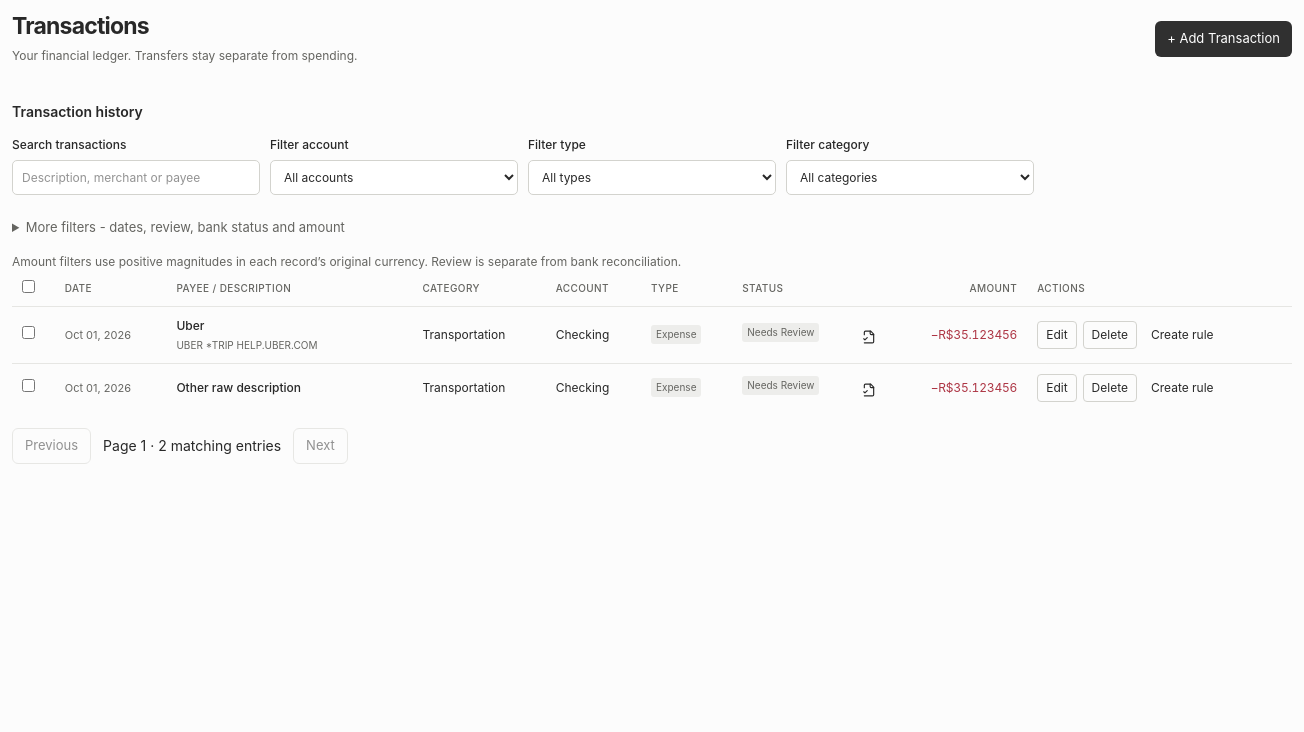
it: bulk reviews only selected IDs, confirms scope, and refreshes the list
This screenshot has width=1304, height=732.
Step 1. Click the checkbox named "Select Uber" → (28, 332), box [22,326,35,339]
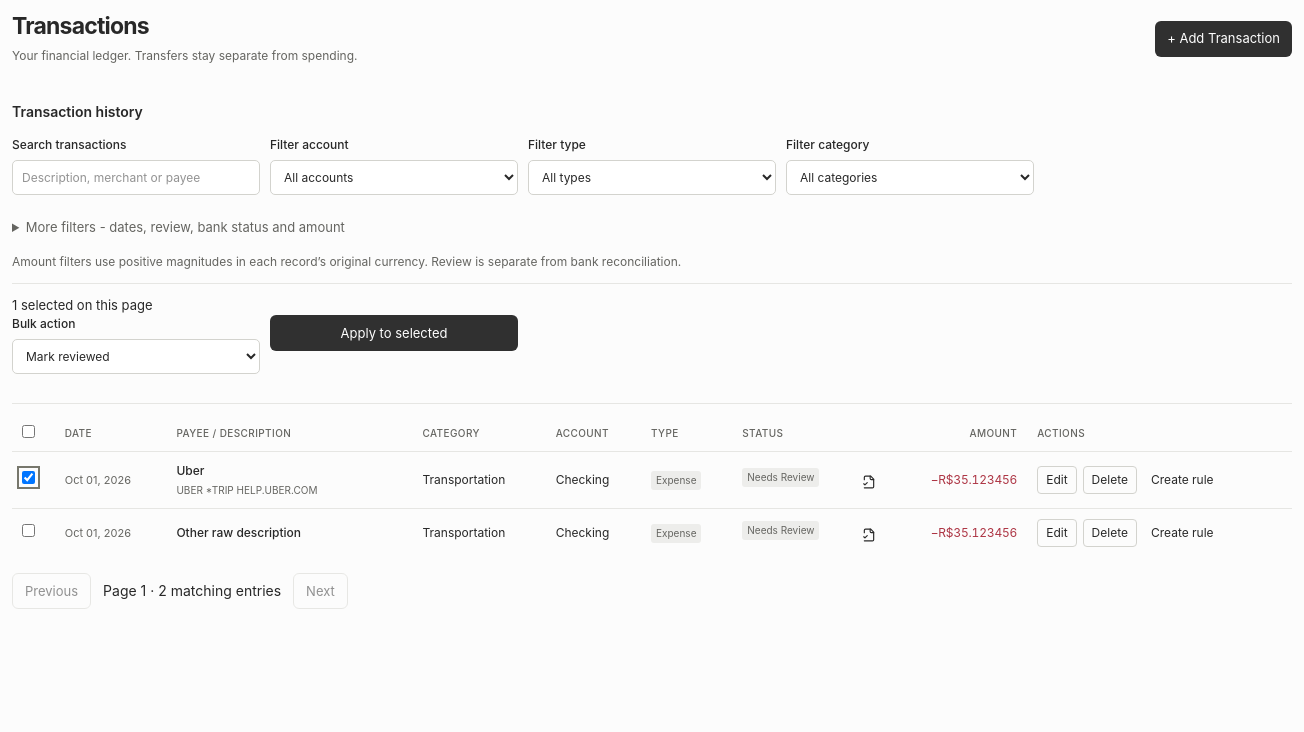
Step 2. Click the button "Apply to selected" → (394, 333), box [270,315,518,351]
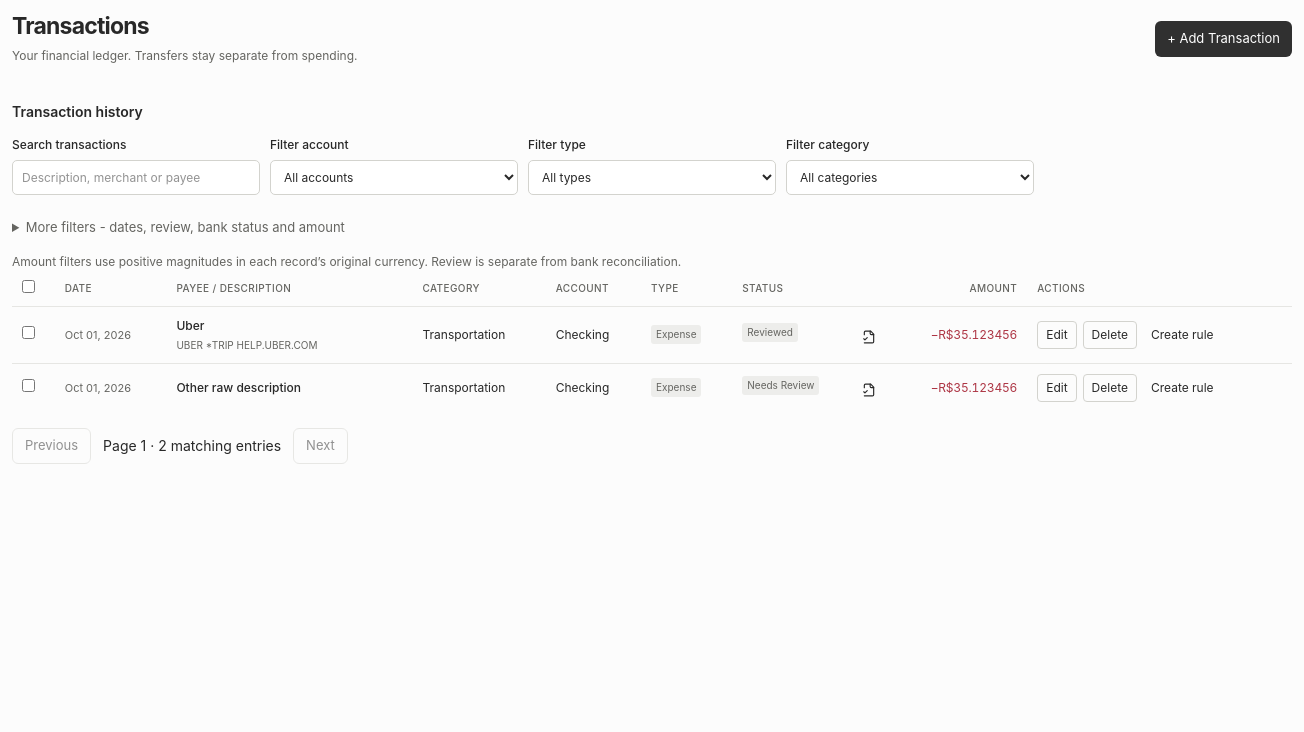
Expected: the text "1 selected on this page" is gone
Expected: the text "Reviewed" is shown, [742,323,798,342]
